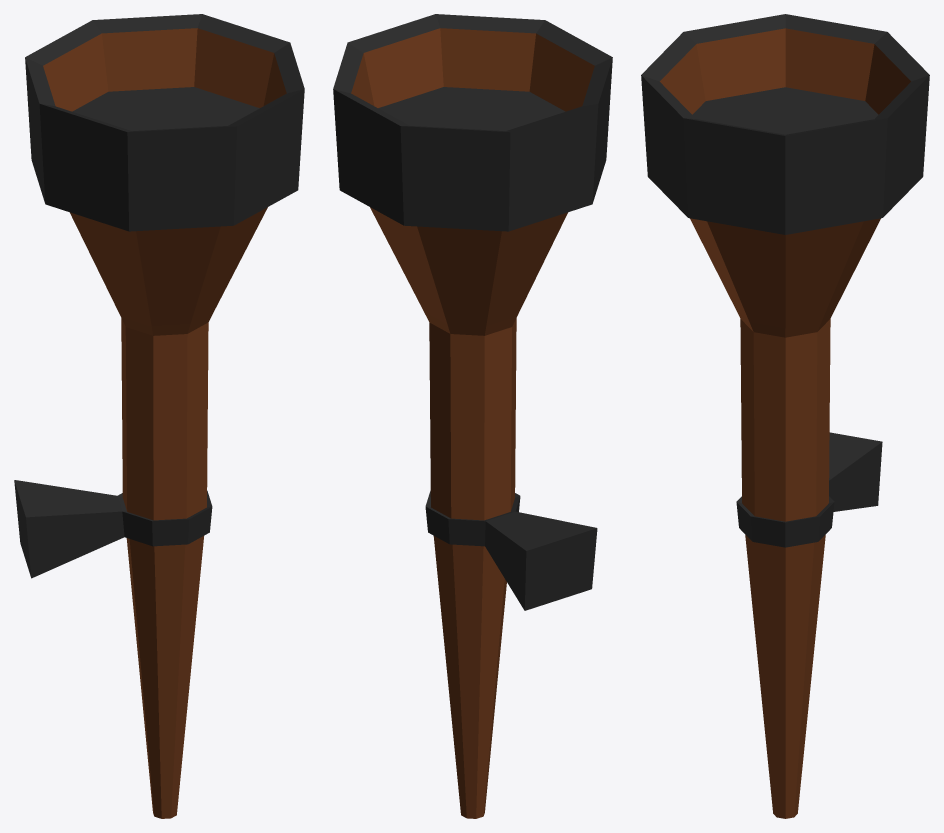
Rendered from torch.glb.
The picture shows the model from 3 angles, left to right: view 1: azimuth 30°, elevation 25°; view 2: azimuth 150°, elevation 25°; view 3: azimuth 270°, elevation 25°; orthographic projection.
Parts seen in each view (by area): view 1: Cylinder; view 2: Cylinder; view 3: Cylinder.
Part boxes in pixels (box(x1,y1,x2,y2)): Cylinder: box(14, 14, 304, 818); Cylinder: box(333, 14, 612, 818); Cylinder: box(641, 14, 929, 818).
Bounding box in the file's own units: 5.03 × 13.85 × 4.91.
